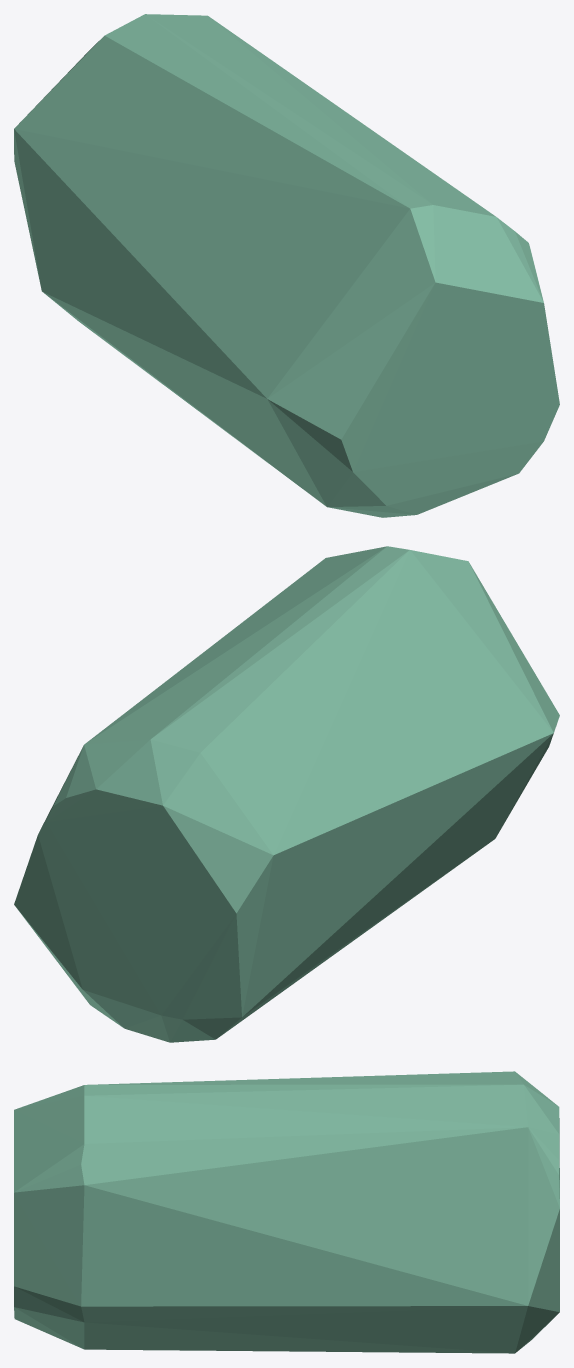
Rendered from food_beverage_can_m01.glb.
The picture shows the model from 3 angles, top to bottom: view 1: azimuth 30°, elevation 25°; view 2: azimuth 150°, elevation 25°; view 3: azimuth 270°, elevation 25°; orthographic projection. The views are drawn at different scales.
Parts seen in each view (by area): view 1: geometry_0; view 2: geometry_0; view 3: geometry_0.
Boxes of the visible parts, x1,y1,x2,y2 form: geometry_0: [14, 14, 559, 517]; geometry_0: [14, 546, 559, 1042]; geometry_0: [14, 1071, 559, 1353].
Size of the model in its own units: 0.2379 by 0.248 by 0.48.
